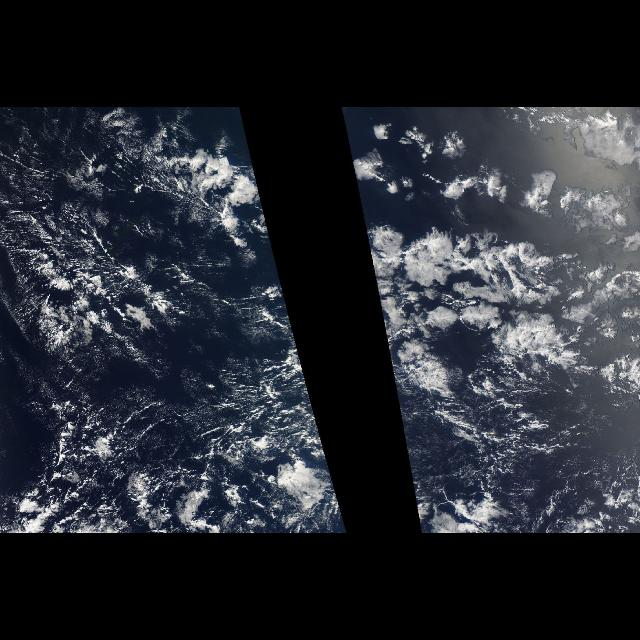Flower: (354, 107, 640, 441)
